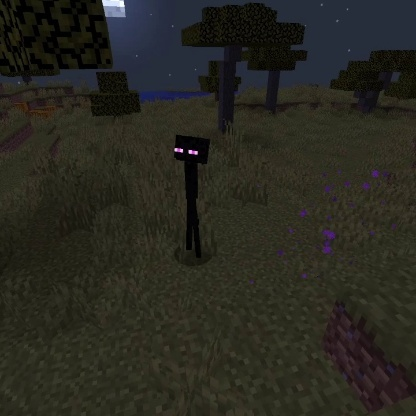enderman: (169, 131, 214, 261)
